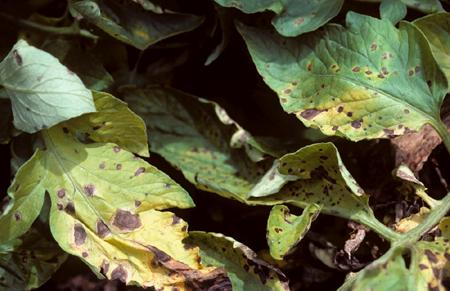Tomato Septoria leaf spot: (24, 118, 211, 288), (238, 14, 447, 148), (240, 138, 395, 246)
